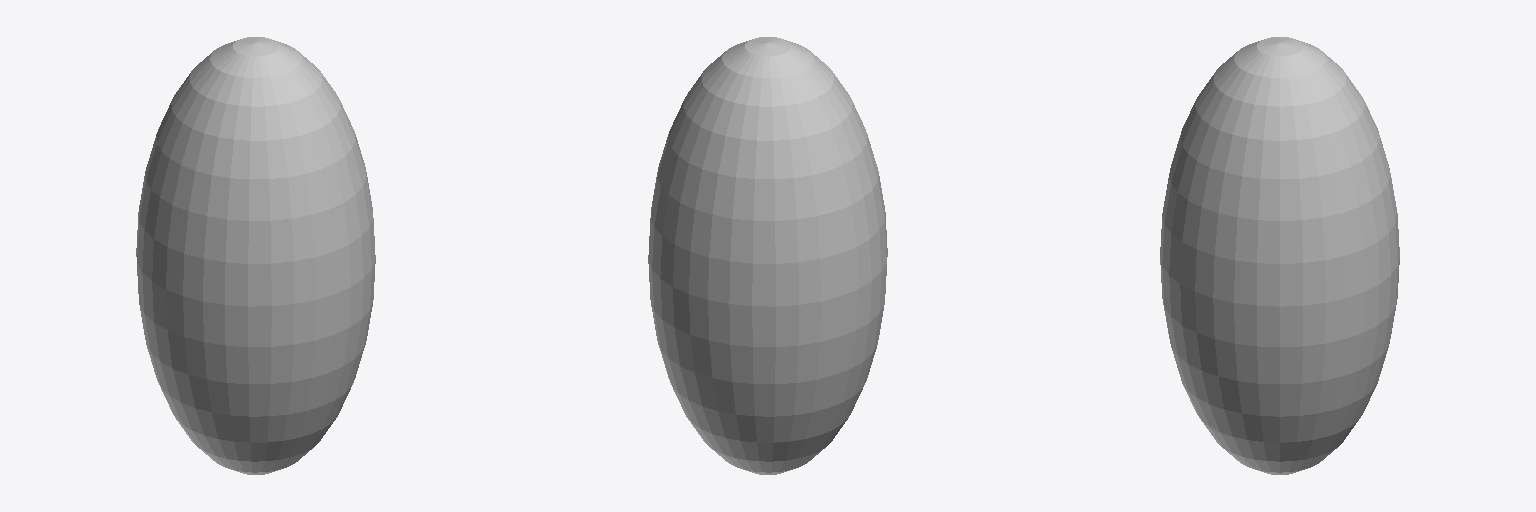
File: player.obj
The picture shows the model from 3 angles: view 1: azimuth 30°, elevation 25°; view 2: azimuth 150°, elevation 25°; view 3: azimuth 270°, elevation 25°; orthographic projection.
Visible parts, largest first — view 1: Сфера; view 2: Сфера; view 3: Сфера.
Boxes of the visible parts, box(x1,y1,x2,y2) form: Сфера: box(136, 37, 375, 474); Сфера: box(648, 37, 887, 474); Сфера: box(1160, 37, 1399, 474).
Bounding box in the file's own units: 2 × 3.92 × 2.